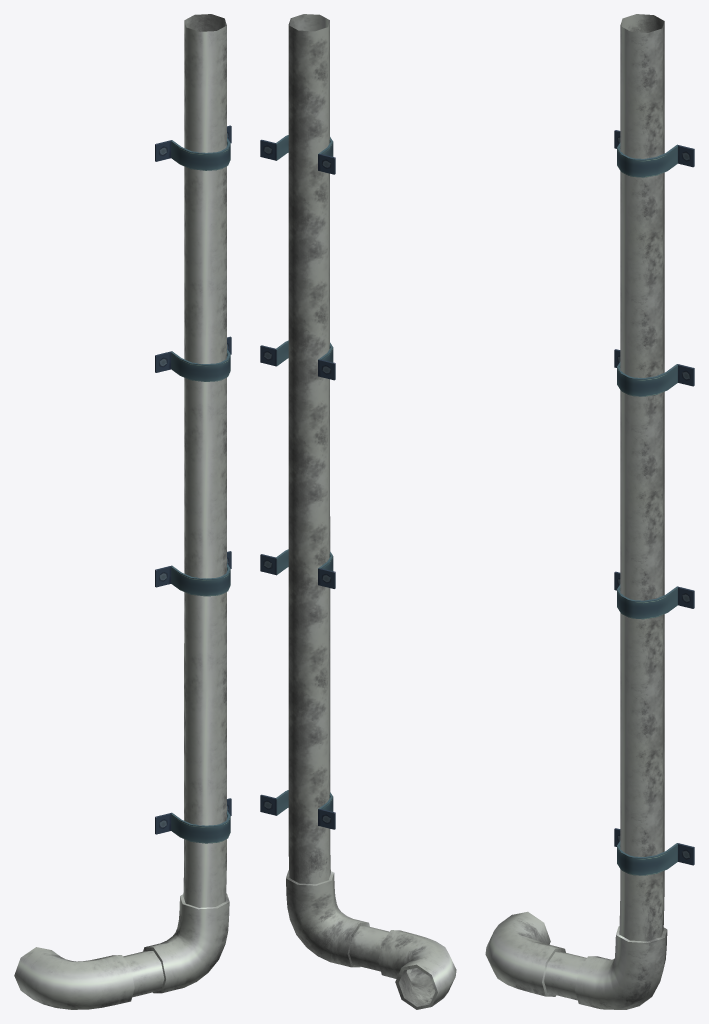
Rendered from Pipe_02.fbx.
3 views of the same model, side by side, from view 1: azimuth 30°, elevation 25°; view 2: azimuth 150°, elevation 25°; view 3: azimuth 330°, elevation 25° (orthographic). The views are drawn at different scales.
Visible parts, largest first — view 1: sweep29, sweep30, Pipe_Connector15, Pipe_Connector13, Pipe_Connector12, Pipe_Connector14; view 2: sweep29, sweep30, Pipe_Connector14, Pipe_Connector12, Pipe_Connector15, Pipe_Connector13; view 3: sweep29, sweep30, Pipe_Connector15, Pipe_Connector12, Pipe_Connector14, Pipe_Connector13.
Boxes of the visible parts, x1,y1,x2,y2 form: sweep29: [123, 14, 229, 997]; sweep30: [14, 947, 134, 1009]; Pipe_Connector15: [155, 125, 231, 170]; Pipe_Connector13: [155, 551, 231, 596]; Pipe_Connector12: [155, 798, 231, 843]; Pipe_Connector14: [155, 336, 231, 381]; sweep29: [286, 14, 412, 975]; sweep30: [378, 930, 456, 1009]; Pipe_Connector14: [260, 340, 335, 380]; Pipe_Connector12: [260, 790, 335, 829]; Pipe_Connector15: [260, 135, 335, 174]; Pipe_Connector13: [260, 549, 335, 588]; sweep29: [544, 14, 667, 1009]; sweep30: [485, 911, 565, 996]; Pipe_Connector15: [614, 130, 694, 177]; Pipe_Connector12: [614, 828, 694, 875]; Pipe_Connector14: [614, 349, 694, 396]; Pipe_Connector13: [614, 571, 694, 619].
Bounding box in the file's own units: 91.62 × 421 × 33.87.
